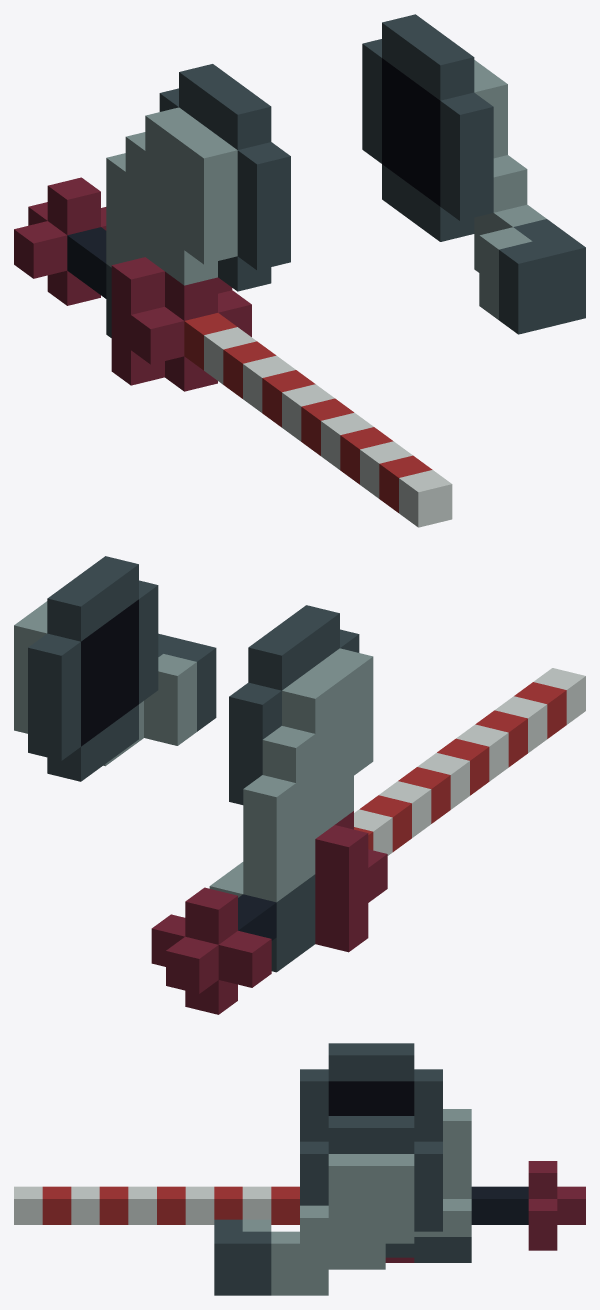
The model's file is WeaponSpear.obj.
3 views of the same model, one above another, from view 1: azimuth 30°, elevation 25°; view 2: azimuth 150°, elevation 25°; view 3: azimuth 270°, elevation 25° (orthographic). The views are drawn at different scales.
Bounding box in the file's own units: 1 × 0.8 × 2.
1 material, 1 textured.
